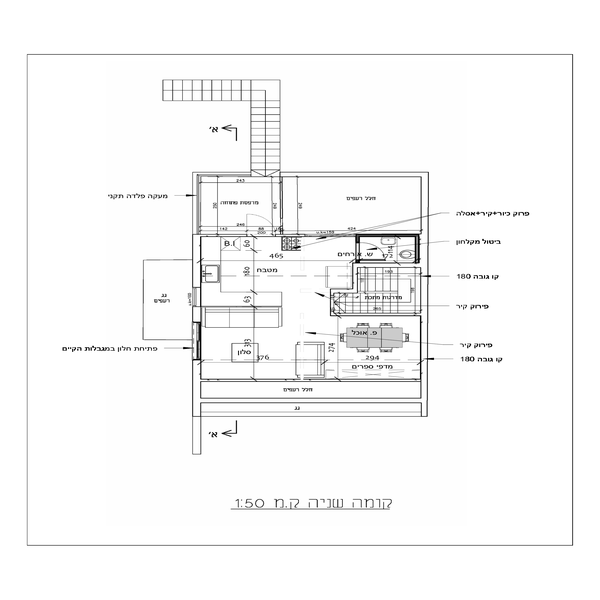door: (245, 204, 273, 241), (355, 242, 389, 264)
room: (348, 224, 420, 266)
wall: (199, 391, 422, 404), (418, 174, 430, 415), (282, 166, 428, 180), (189, 227, 205, 291), (190, 359, 204, 413)
